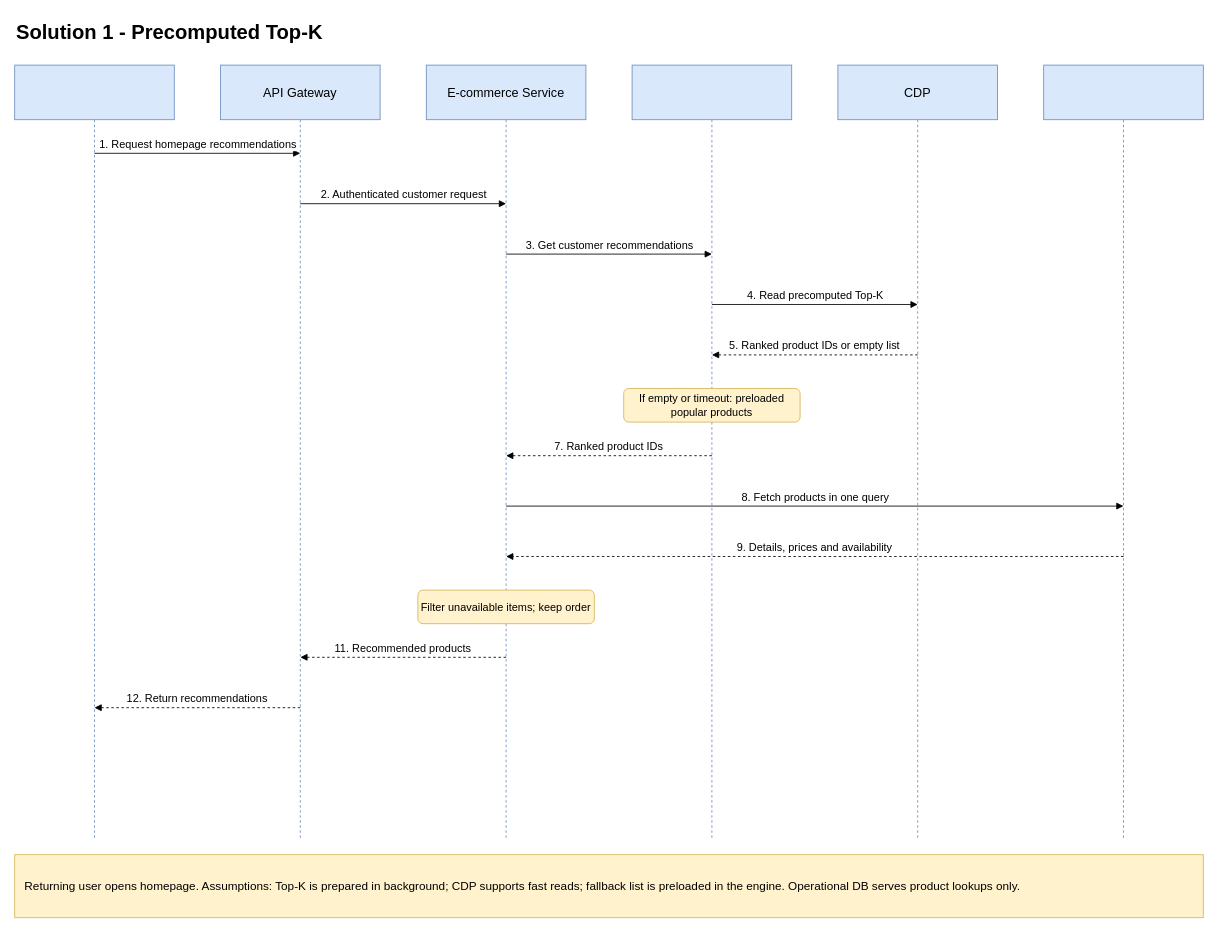
Image size: 1218x932. Some labels were removed from this diagram. Here are the shapes that lost their labels. From the top down, the box of each, then its label:
(14, 64, 174, 838): Channels
(631, 64, 792, 838): Recommendation Engine
(1043, 64, 1203, 838): Operational DB
